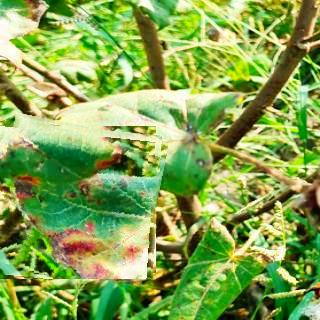blight: (0, 119, 162, 279)
